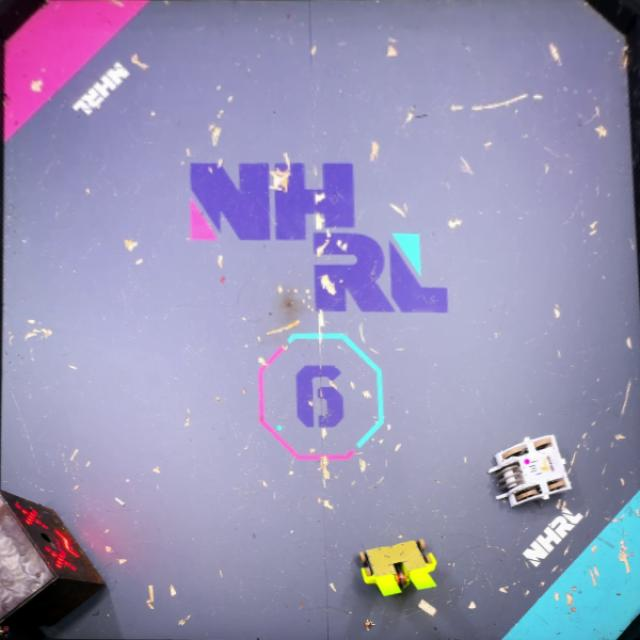housebot: (0, 490, 107, 640)
robot: (488, 434, 572, 507), (356, 536, 438, 598)
